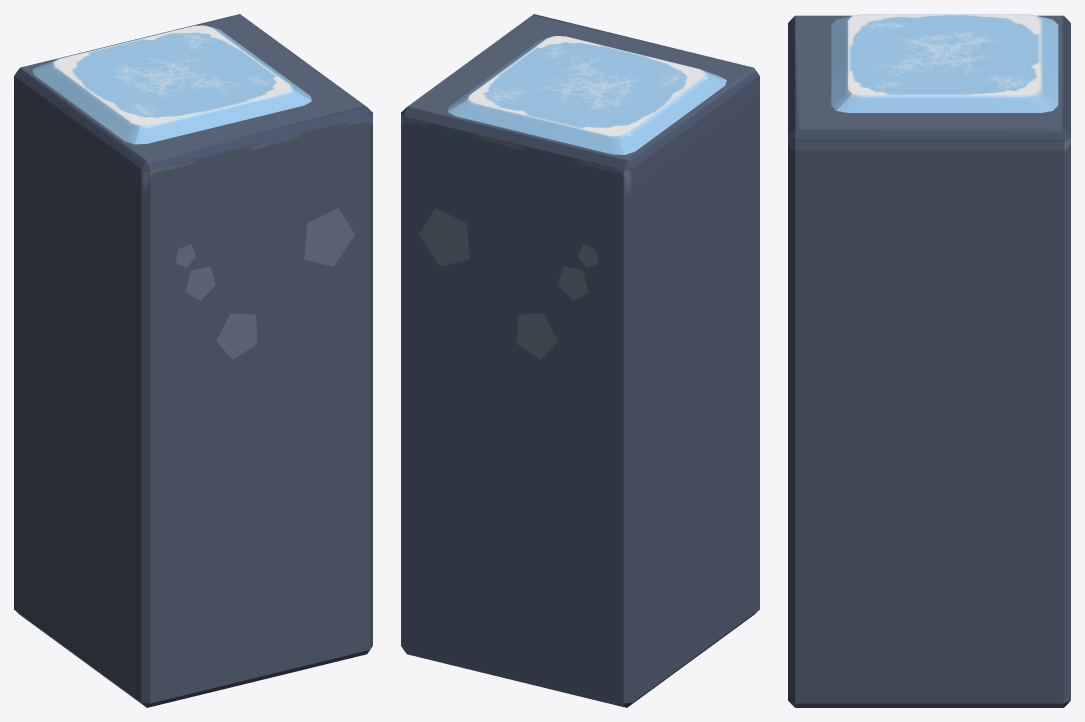
The model's file is S3_InF_WallCorner_002.fbx.
The picture shows the model from 3 angles, left to right: view 1: azimuth 30°, elevation 25°; view 2: azimuth 150°, elevation 25°; view 3: azimuth 270°, elevation 25°; orthographic projection. The views are drawn at different scales.
Visible parts, largest first — view 1: kakuninyouBlock; view 2: kakuninyouBlock; view 3: kakuninyouBlock.
Boxes of the visible parts, x1,y1,x2,y2 form: kakuninyouBlock: (14,14,372,707); kakuninyouBlock: (401,14,759,707); kakuninyouBlock: (788,14,1070,707).
Bounding box in the file's own units: 0.8889 × 2.04 × 0.8889.
